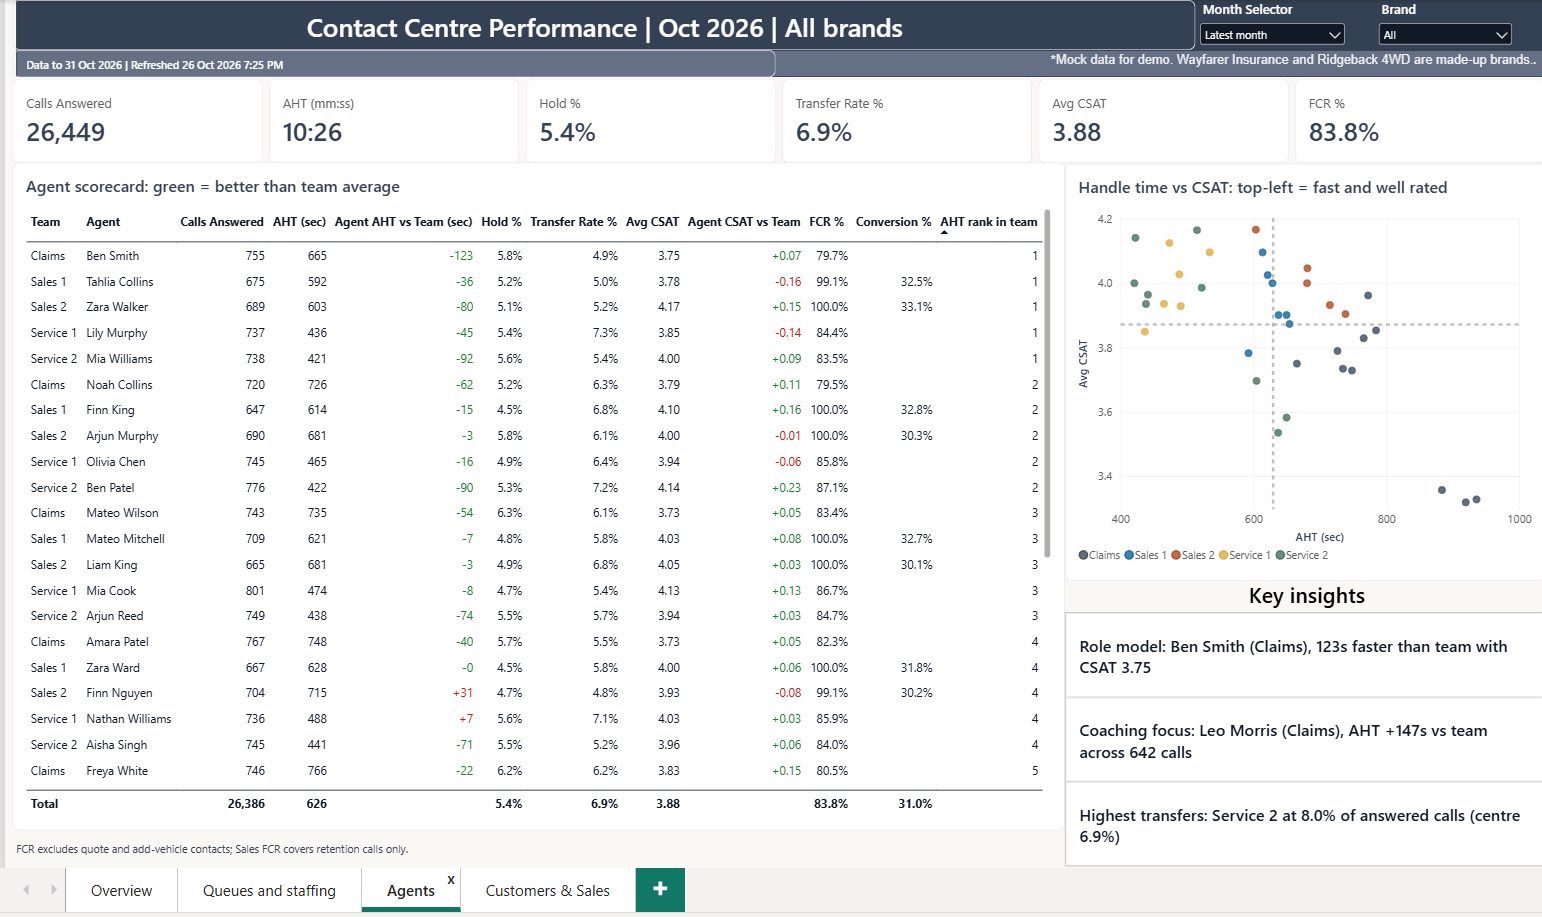

What the dashboard file says about the page in this screenshot:
{"tool":"powerbi","page":{"name":"Agents","canvas":[1920,1080],"ordinal":2},"visuals":[{"type":"shape","title":"Accent Bg","box":[13.4,62.5,1904.4,33.5],"z":0},{"type":"shape","title":"Header Bg","box":[13.4,0,1902.1,62.5],"z":1000},{"type":"slicer","fields":{"Values":["Date.Month Selector"]},"box":[1481,0,190,62.7],"z":2000},{"type":"slicer","fields":{"Values":["Queue.Brand"]},"box":[1704.2,0,175.2,62.7],"z":3000},{"type":"cardVisual","fields":{"Data":["Calls.Report Title"]},"box":[9.2,0,1471.8,62.7],"z":4000},{"type":"cardVisual","fields":{"Data":["Calls.Data As At"]},"box":[10.1,62.3,949.3,34.2],"z":5000},{"type":"cardVisual","fields":{"Data":["Calls.Calls Answered","Calls.AHT (mm:ss)","Calls.Hold %","Calls.Transfer Rate %","Surveys.Avg CSAT","Interactions.FCR %"]},"box":[9.2,97.8,1907.1,105.1],"z":6000},{"type":"tableEx","title":"Agent scorecard: green = better than team average","fields":{"Values":["Agent.Team","Agent.Agent","Calls.Calls Answered","Calls.AHT (sec)","Agent.Agent AHT vs Team (sec)","Calls.Hold %","Calls.Transfer Rate %","Surveys.Avg CSAT","Agent.Agent CSAT vs Team","Interactions.FCR %","Interactions.Conversion %","Agent.Agent AHT Rank"]},"box":[10,202.6,1308.8,830.4],"z":7000},{"type":"scatterChart","title":"Handle time vs CSAT: top-left = fast and well rated","fields":{"Category":["Agent.Agent"],"Series":["Agent.Team"],"X":["Calls.AHT (sec)"],"Y":["Surveys.Avg CSAT"]},"box":[1318.1,203.8,598.1,518.1],"z":8000},{"type":"cardVisual","title":"Key insights","fields":{"Data":["Calls.Agent Role Model","Calls.Agent Coaching Focus","Calls.Highest Transfer Team"]},"box":[1318.1,721.9,601.9,358.1],"z":9000},{"type":"textbox","box":[13.3,1046.4,695.9,21.6],"z":10000},{"type":"textbox","box":[961.3,62.3,943.2,34.2],"z":10001}]}

Visuals, with their boxes on the page's 1920x1080 design canvas (x1, y1, x2, y2). These are canvas units, not pixel positions in the 1542x917 screenshot, which may show the page scaled, cropped or inside an application window:
"Accent Bg" shape: detection(13, 62, 1918, 96)
"Header Bg" shape: detection(13, 0, 1916, 62)
slicer - Date.Month Selector: detection(1481, 0, 1671, 63)
slicer - Queue.Brand: detection(1704, 0, 1879, 63)
cardVisual - Calls.Report Title: detection(9, 0, 1481, 63)
cardVisual - Calls.Data As At: detection(10, 62, 959, 96)
cardVisual - Calls.Calls Answered x Calls.AHT (mm:ss): detection(9, 98, 1916, 203)
"Agent scorecard: green = better than team average" tableEx: detection(10, 203, 1319, 1033)
"Handle time vs CSAT: top-left = fast and well rated" scatterChart: detection(1318, 204, 1916, 722)
"Key insights" cardVisual: detection(1318, 722, 1920, 1080)
textbox: detection(13, 1046, 709, 1068)
textbox: detection(961, 62, 1904, 96)
